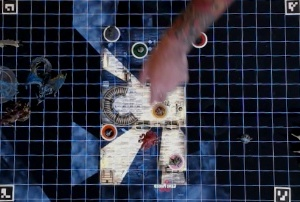green: (130, 40, 151, 60)
orange: (98, 121, 118, 141)
pink: (168, 152, 185, 172)
red: (189, 28, 210, 47)
violet: (103, 23, 121, 42)
yellow: (151, 101, 168, 116)
